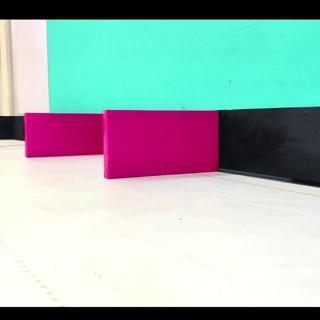xparking: (105, 112, 218, 172), (26, 114, 102, 151)
